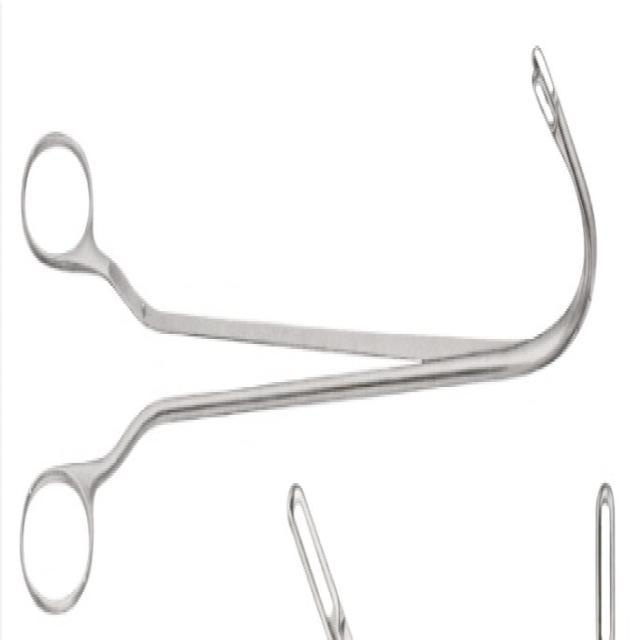Randall: (15, 25, 600, 624)
